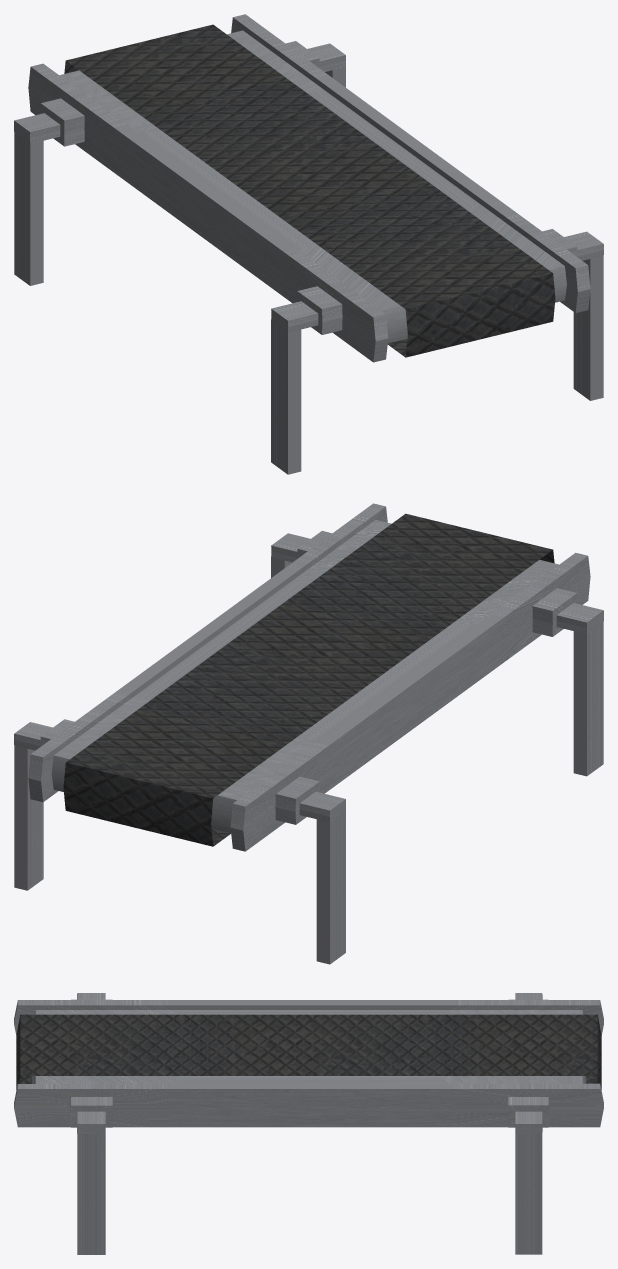
The model's file is conveyer_straight.FBX.
3 views of the same model, one above another, from view 1: azimuth 30°, elevation 25°; view 2: azimuth 150°, elevation 25°; view 3: azimuth 270°, elevation 25° (orthographic). The views are drawn at different scales.
Parts seen in each view (by area): view 1: conveyer_straight; view 2: conveyer_straight; view 3: conveyer_straight.
Part boxes in pixels (x1,y1,x2,y2): conveyer_straight: (14,14,603,474); conveyer_straight: (14,503,603,964); conveyer_straight: (14,993,603,1254).
Bounding box in the file's own units: 73.47 × 37.91 × 140.
Materials: 2 (2 with a texture image).
